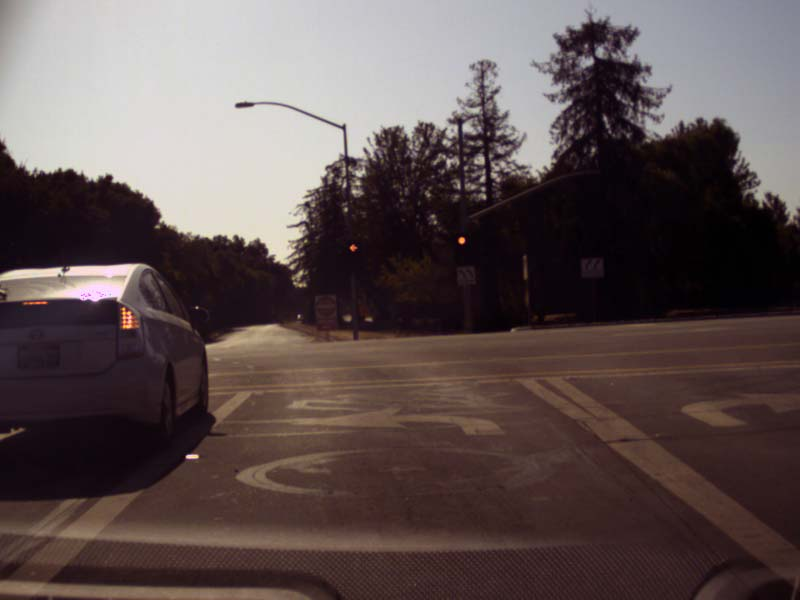Red: (453, 232, 471, 265), (345, 239, 361, 272)
